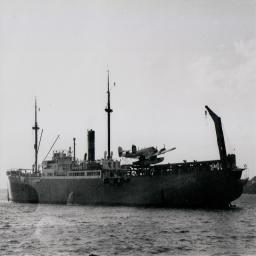Portanaves: (5, 68, 250, 214)
